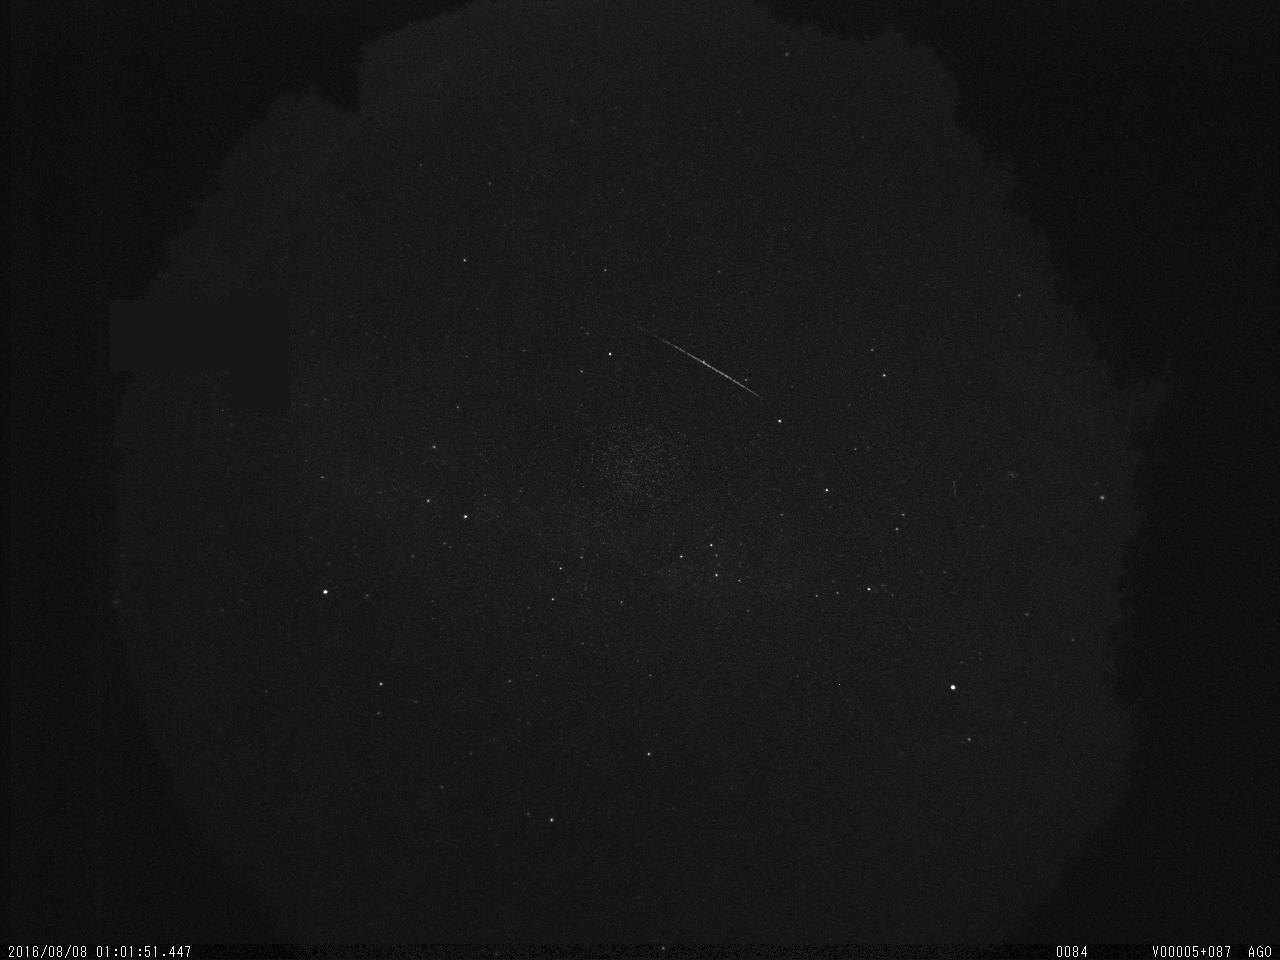meteor: (635, 320, 768, 404)
